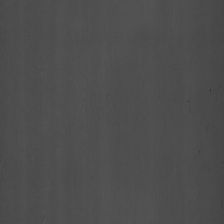inclusion: (206, 78, 215, 101), (185, 93, 193, 111)
